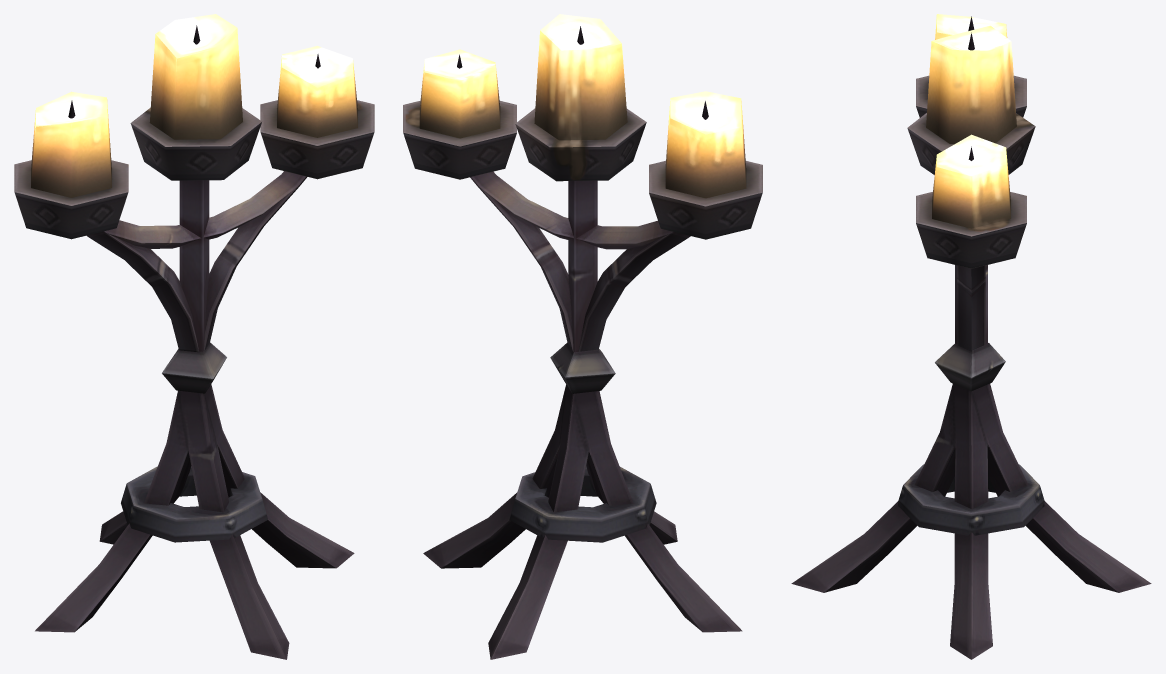
3 renders of one model, left to right at view 1: azimuth 30°, elevation 25°; view 2: azimuth 150°, elevation 25°; view 3: azimuth 270°, elevation 25°, orthographic. The views are drawn at different scales.
Parts seen in each view (by area): view 1: candelabra_02; view 2: candelabra_02; view 3: candelabra_02.
Part boxes in pixels (x1,y1,x2,y2): candelabra_02: (14, 14, 374, 659); candelabra_02: (403, 14, 762, 659); candelabra_02: (791, 14, 1151, 659).
Bounding box in the file's own units: 67.37 × 101 × 59.94.
Materials: 1 (1 with a texture image).
